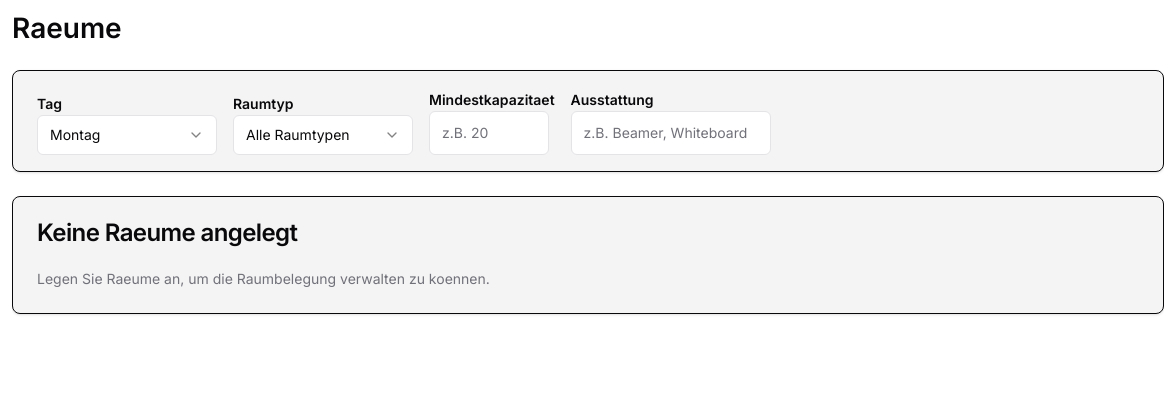
Test case: RoomsPage — German enum + filter-aware empty state regression guard › Raumtyp Select renders the 6 German enum labels and no orphan English labels
The image size is (1164, 414).
Click the dropdown labelled "Alle Raumtypen" at (323, 135), box [233, 115, 413, 155]
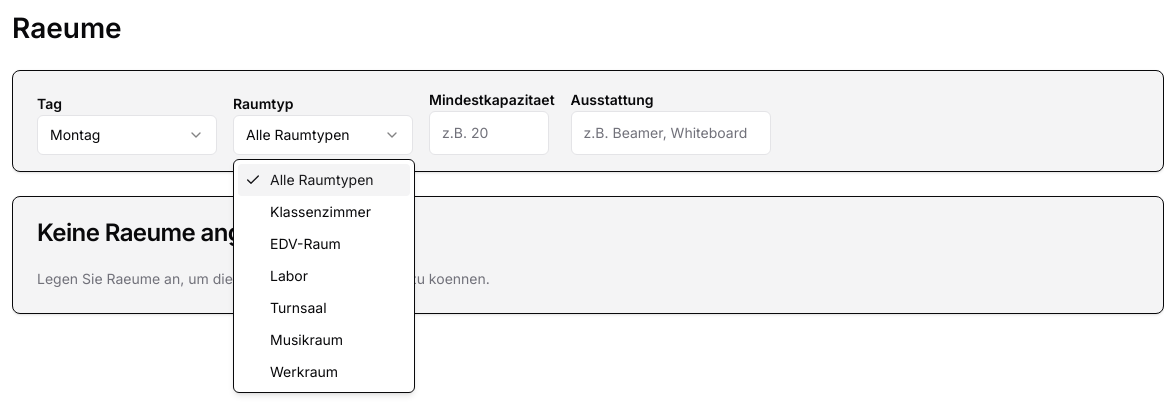
Now the option "Alle Raumtypen" is shown, box [238, 164, 410, 196]
Now the option "Klassenzimmer" is shown, box [270, 203, 371, 220]
Now the option "EDV-Raum" is shown, box [270, 235, 341, 252]
